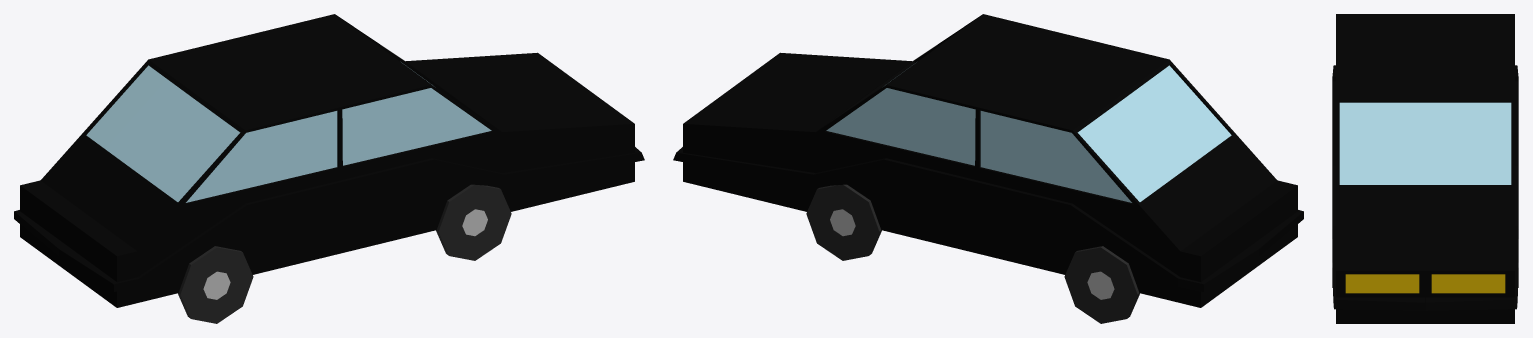
Rendered from Coche_Negro.fbx.
3 views of the same model, side by side, from view 1: azimuth 30°, elevation 25°; view 2: azimuth 150°, elevation 25°; view 3: azimuth 270°, elevation 25° (orthographic). The views are drawn at different scales.
Parts seen in each view (by area): view 1: Cube, Cylinder.001, Cylinder; view 2: Cube, Cylinder.001, Cylinder; view 3: Cube.
Boxes of the visible parts, bbox=[...] form: Cube: bbox=[14, 14, 644, 307]; Cylinder.001: bbox=[178, 246, 253, 323]; Cylinder: bbox=[436, 184, 511, 260]; Cube: bbox=[673, 14, 1303, 307]; Cylinder.001: bbox=[1064, 246, 1139, 323]; Cylinder: bbox=[806, 184, 881, 260]; Cube: bbox=[1332, 14, 1518, 323].
Size of the model in its own units: 398 by 130 by 129.
